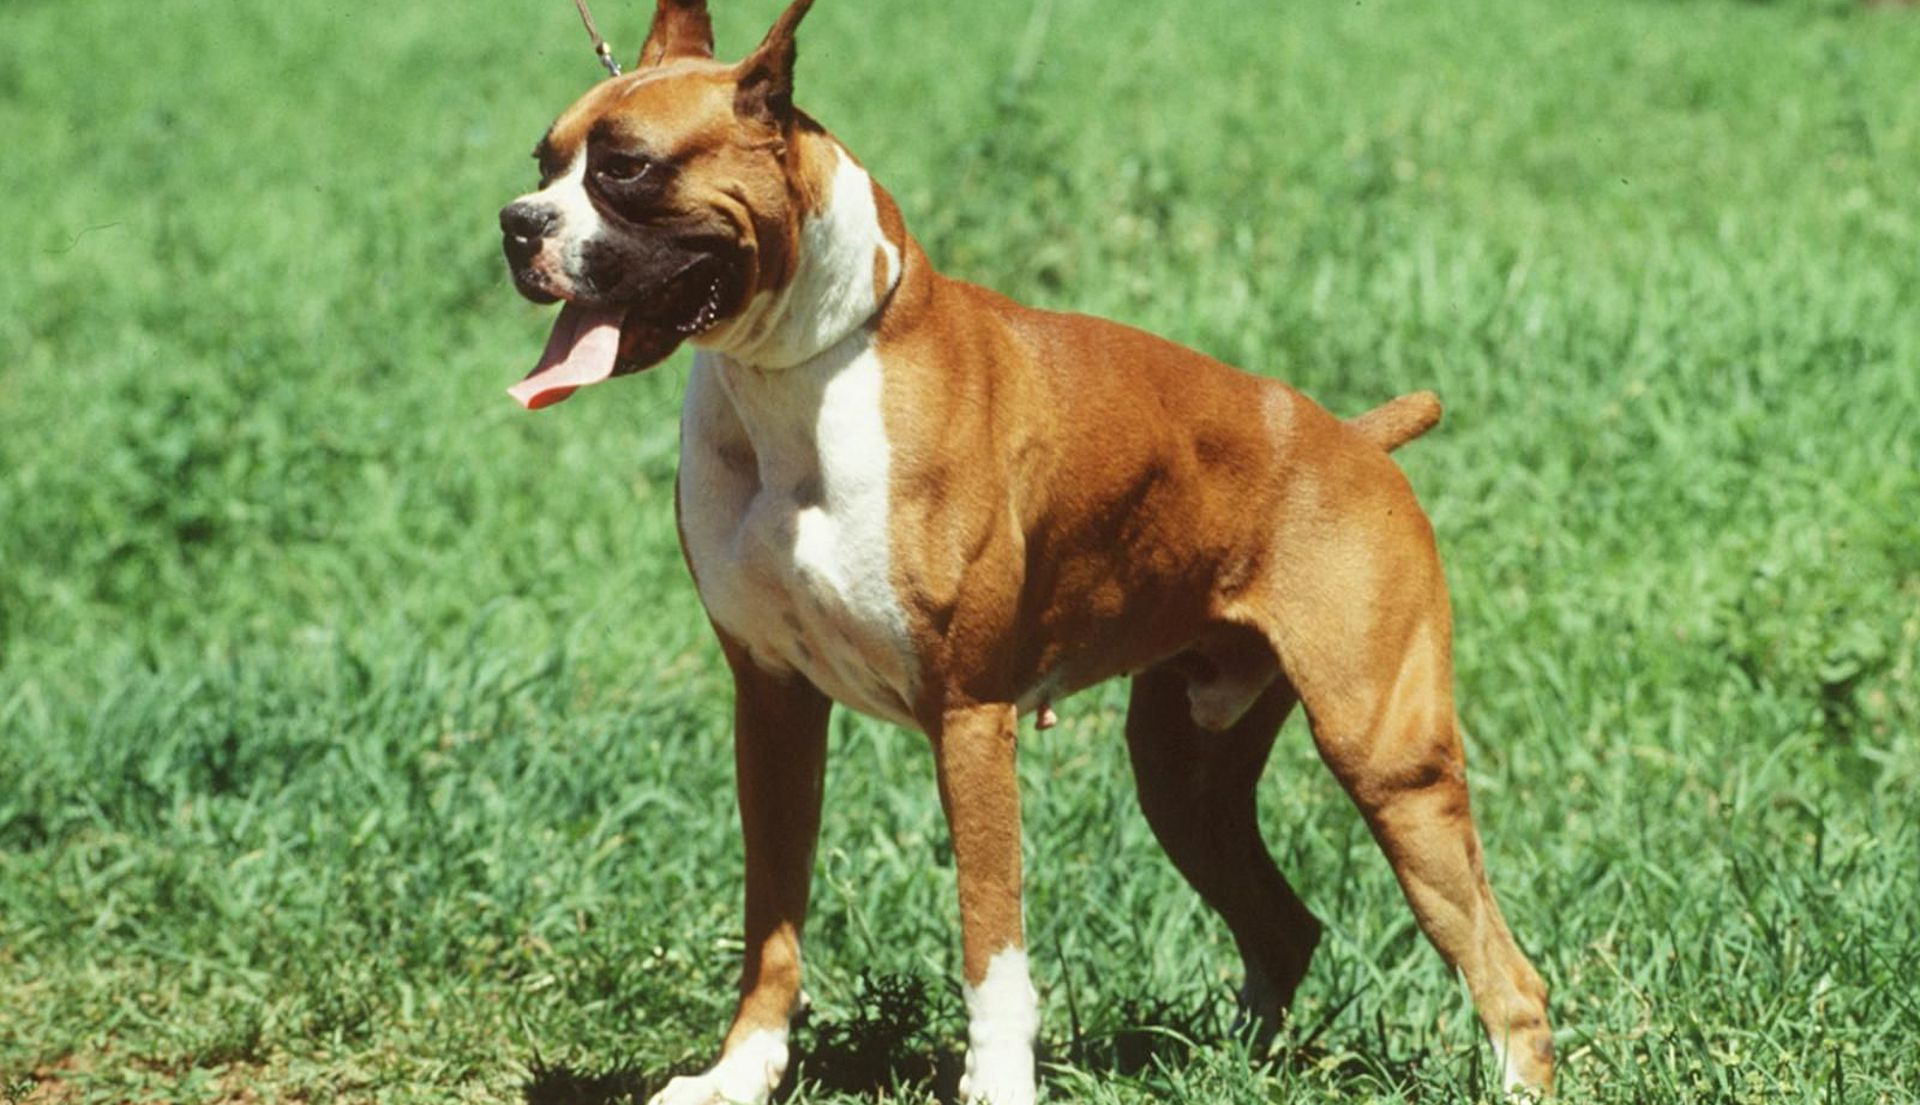dog: (425, 1, 1601, 1105)
